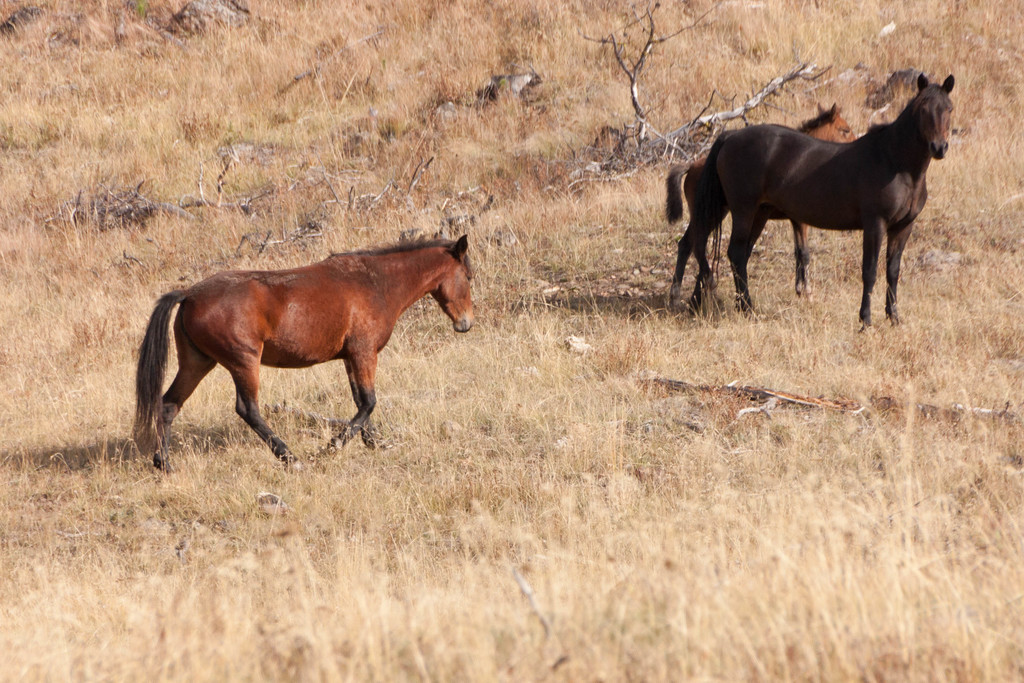horse: (128, 230, 476, 476), (704, 71, 954, 332)
